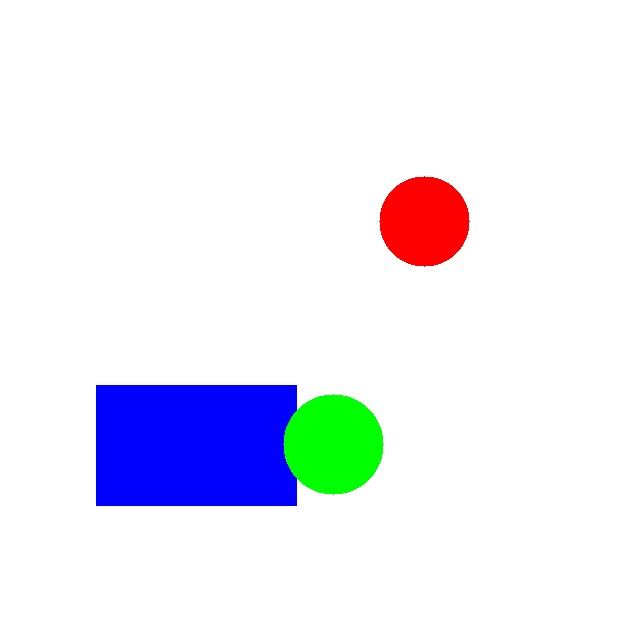cartao: (96, 385, 296, 505)
rosca_externa: (283, 394, 383, 494)
rosca_interna: (379, 176, 469, 266)
